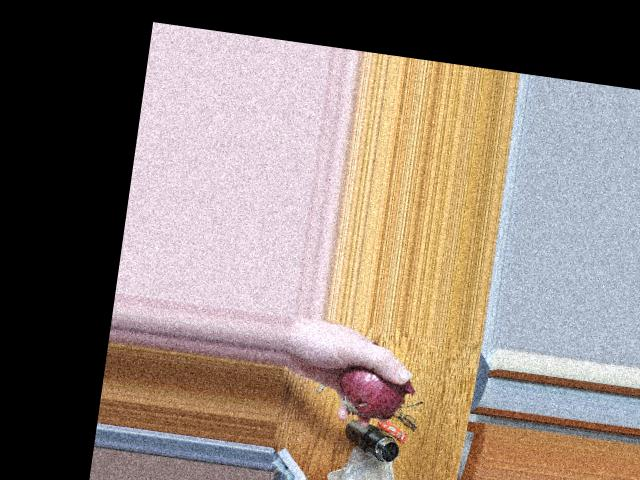onion: (335, 356, 401, 420)
